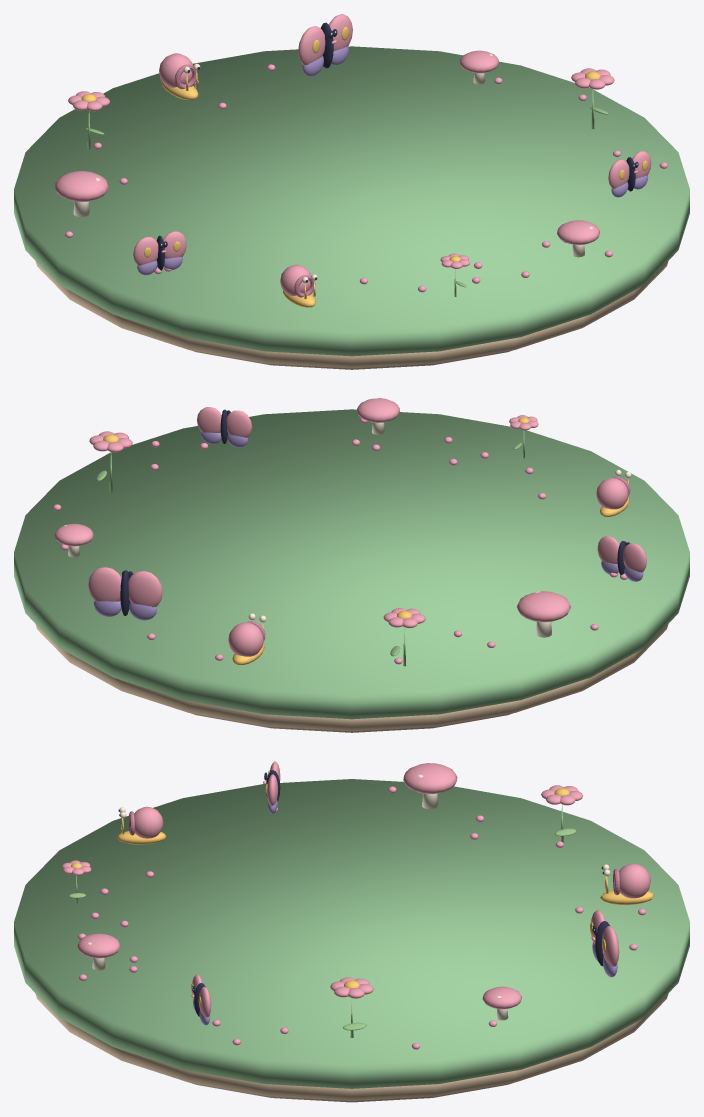
Rendered from world.glb.
3 views of the same model, one above another, from view 1: azimuth 30°, elevation 25°; view 2: azimuth 150°, elevation 25°; view 3: azimuth 270°, elevation 25° (orthographic).
Visible parts, largest first — view 1: Cone, Cone.001, butterfly.001, butterfly.002, mushroom.002, snail.001, butterfly.003, snail.002, mushroom.003, flower.001, mushroom.001, flower.002 (+1 smaller); view 2: Cone, Cone.001, butterfly.001, butterfly.003, butterfly.002, mushroom.002, snail.001, snail.002, mushroom.003, flower.001, mushroom.001, flower.002 (+1 smaller); view 3: Cone, Cone.001, snail.001, mushroom.002, snail.002, butterfly.001, mushroom.003, flower.001, flower.002, mushroom.001, butterfly.003, butterfly.002 (+1 smaller).
Part boxes in pixels (x1=…): Cone: x1=14, y1=46, x2=689, y2=356; Cone.001: x1=35, y1=261, x2=668, y2=368; butterfly.001: x1=298, y1=14, x2=352, y2=76; butterfly.002: x1=133, y1=231, x2=186, y2=275; mushroom.002: x1=54, y1=171, x2=108, y2=217; snail.001: x1=159, y1=53, x2=200, y2=99; butterfly.003: x1=608, y1=151, x2=651, y2=197; snail.002: x1=280, y1=264, x2=317, y2=307; mushroom.003: x1=557, y1=220, x2=599, y2=257; flower.001: x1=571, y1=68, x2=614, y2=129; mushroom.001: x1=459, y1=50, x2=498, y2=84; flower.002: x1=68, y1=91, x2=109, y2=149; Cone: x1=14, y1=409, x2=689, y2=719; Cone.001: x1=35, y1=624, x2=668, y2=731; butterfly.001: x1=88, y1=567, x2=162, y2=620; butterfly.003: x1=197, y1=407, x2=252, y2=447; butterfly.002: x1=597, y1=536, x2=646, y2=581; mushroom.002: x1=516, y1=591, x2=570, y2=637; snail.001: x1=228, y1=613, x2=266, y2=664; snail.002: x1=596, y1=469, x2=631, y2=516; mushroom.003: x1=357, y1=398, x2=399, y2=434; flower.001: x1=89, y1=431, x2=132, y2=492; mushroom.001: x1=54, y1=523, x2=93, y2=557; flower.002: x1=383, y1=608, x2=425, y2=666; Cone: x1=14, y1=779, x2=689, y2=1088; Cone.001: x1=35, y1=993, x2=668, y2=1100; snail.001: x1=600, y1=863, x2=654, y2=904; mushroom.002: x1=403, y1=763, x2=457, y2=809; snail.002: x1=117, y1=806, x2=166, y2=844; butterfly.001: x1=590, y1=910, x2=619, y2=977; mushroom.003: x1=77, y1=933, x2=120, y2=970; flower.001: x1=330, y1=977, x2=373, y2=1037; flower.002: x1=541, y1=785, x2=582, y2=842; mushroom.001: x1=482, y1=986, x2=521, y2=1020; butterfly.003: x1=191, y1=974, x2=211, y2=1025; butterfly.002: x1=263, y1=761, x2=280, y2=813.
Bounding box in the file's own units: 9.6 × 1.68 × 9.6.
